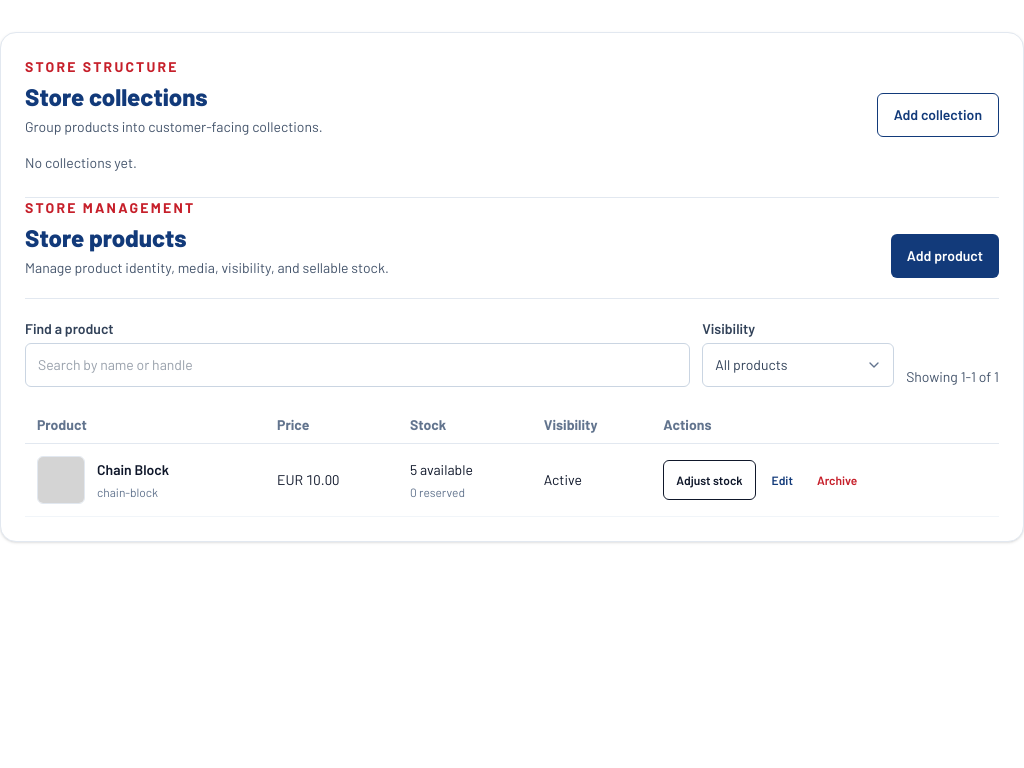
Test case: catalog management panel › opens the product form in a modal and closes it with Escape
Expected: the dialog "add a product" is not shown
Step 1. Click the button "Add product" → (945, 256), box [891,234,999,278]
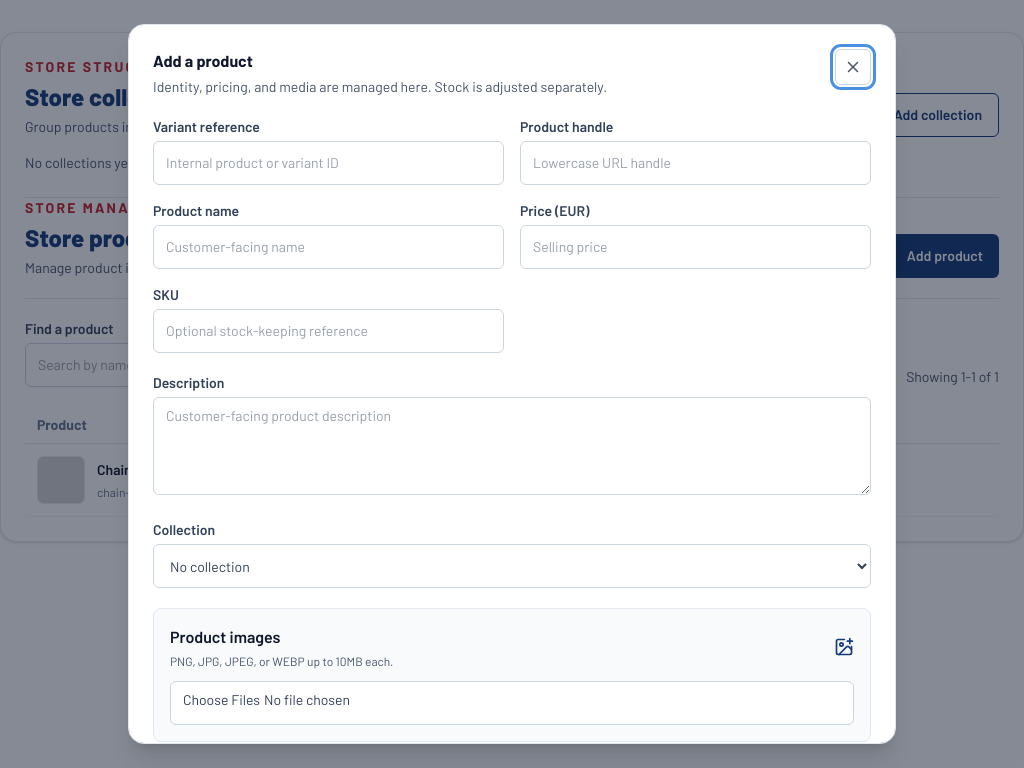
Expected: the dialog "Add a product" is shown
Step 2. Press Escape
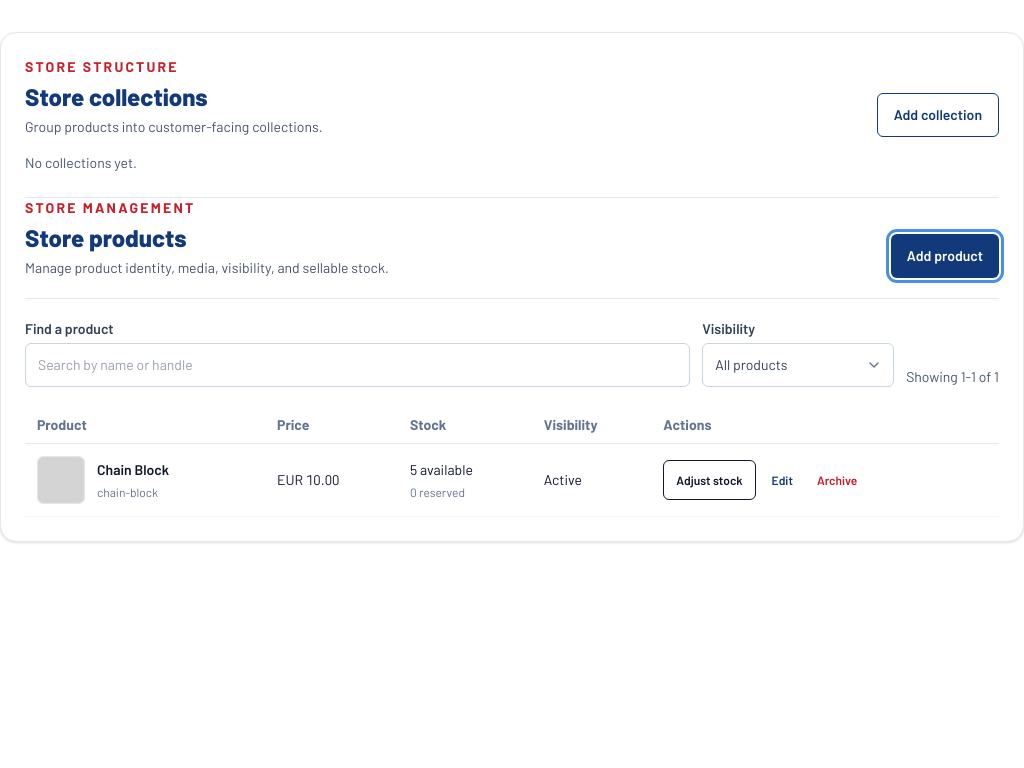
Expected: the heading "Add a product" is gone
